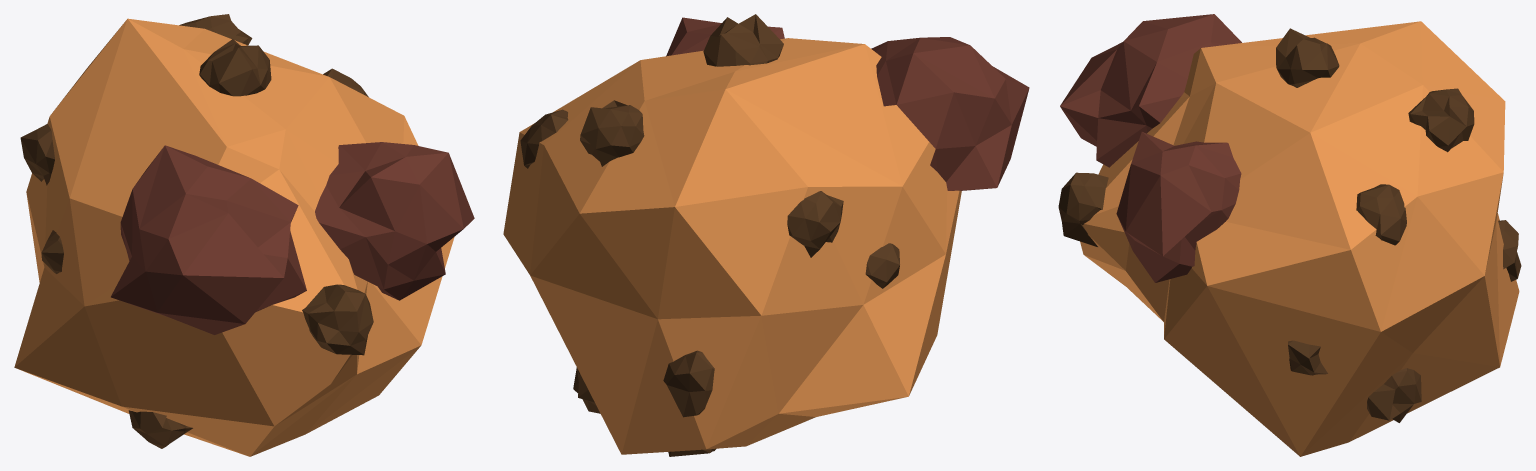
The model's file is Cooki.fbx.
3 renders of one model, left to right at view 1: azimuth 30°, elevation 25°; view 2: azimuth 150°, elevation 25°; view 3: azimuth 270°, elevation 25°, orthographic. The views are drawn at different scales.
Parts seen in each view (by area): view 1: Cooki; view 2: Cooki; view 3: Cooki.
Part boxes in pixels (x1,y1,x2,y2): Cooki: (14, 14, 474, 456); Cooki: (503, 14, 1029, 456); Cooki: (1058, 14, 1521, 456).
Size of the model in its own units: 206 by 204 by 229.
